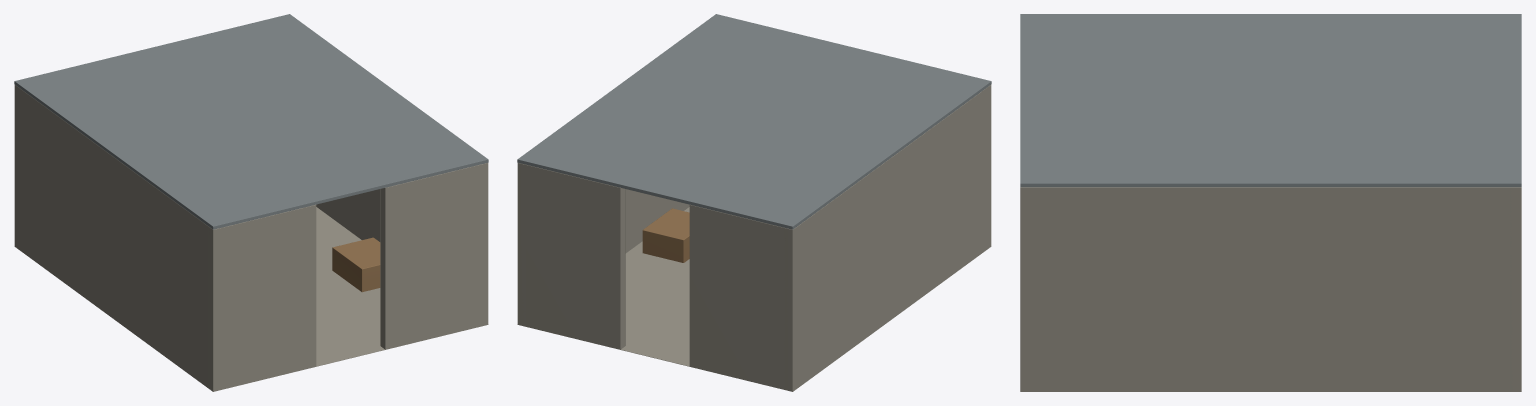
The model's file is harbor.fbx.
3 renders of one model, left to right at view 1: azimuth 30°, elevation 25°; view 2: azimuth 150°, elevation 25°; view 3: azimuth 270°, elevation 25°, orthographic. The views are drawn at different scales.
Parts seen in each view (by area): view 1: VP_Harbor_Roof, VP_Harbor_Wall_01, VP_Harbor_Wall_05, VP_Harbor_Wall_06, VP_Harbor_Floor, VP_Harbor_Wall_02, VP_Harbor_Cargo_08; view 2: VP_Harbor_Roof, VP_Harbor_Wall_01, VP_Harbor_Wall_04, VP_Harbor_Wall_03, VP_Harbor_Floor, VP_Harbor_Wall_02, VP_Harbor_Cargo_08, VP_Harbor_Wall_05; view 3: VP_Harbor_Wall_02, VP_Harbor_Roof, VP_Harbor_Wall_04, VP_Harbor_Floor.
Boxes of the visible parts, x1,y1,x2,y2 form: VP_Harbor_Roof: [14, 14, 488, 229]; VP_Harbor_Wall_01: [14, 85, 221, 390]; VP_Harbor_Wall_05: [208, 204, 316, 391]; VP_Harbor_Wall_06: [380, 164, 488, 349]; VP_Harbor_Floor: [15, 207, 488, 391]; VP_Harbor_Wall_02: [316, 163, 488, 326]; VP_Harbor_Cargo_08: [332, 237, 380, 292]; VP_Harbor_Roof: [517, 14, 991, 229]; VP_Harbor_Wall_01: [784, 88, 986, 391]; VP_Harbor_Wall_04: [517, 163, 625, 349]; VP_Harbor_Wall_03: [689, 204, 797, 390]; VP_Harbor_Floor: [517, 207, 990, 391]; VP_Harbor_Wall_02: [517, 163, 689, 325]; VP_Harbor_Cargo_08: [642, 208, 689, 262]; VP_Harbor_Wall_05: [986, 85, 991, 249]; VP_Harbor_Wall_02: [1020, 187, 1521, 391]; VP_Harbor_Roof: [1020, 14, 1521, 187]; VP_Harbor_Wall_04: [1509, 187, 1521, 391]; VP_Harbor_Floor: [1020, 391, 1521, 391].
Size of what is drawn, in the model's own units: 1600 by 2000 by 918.
